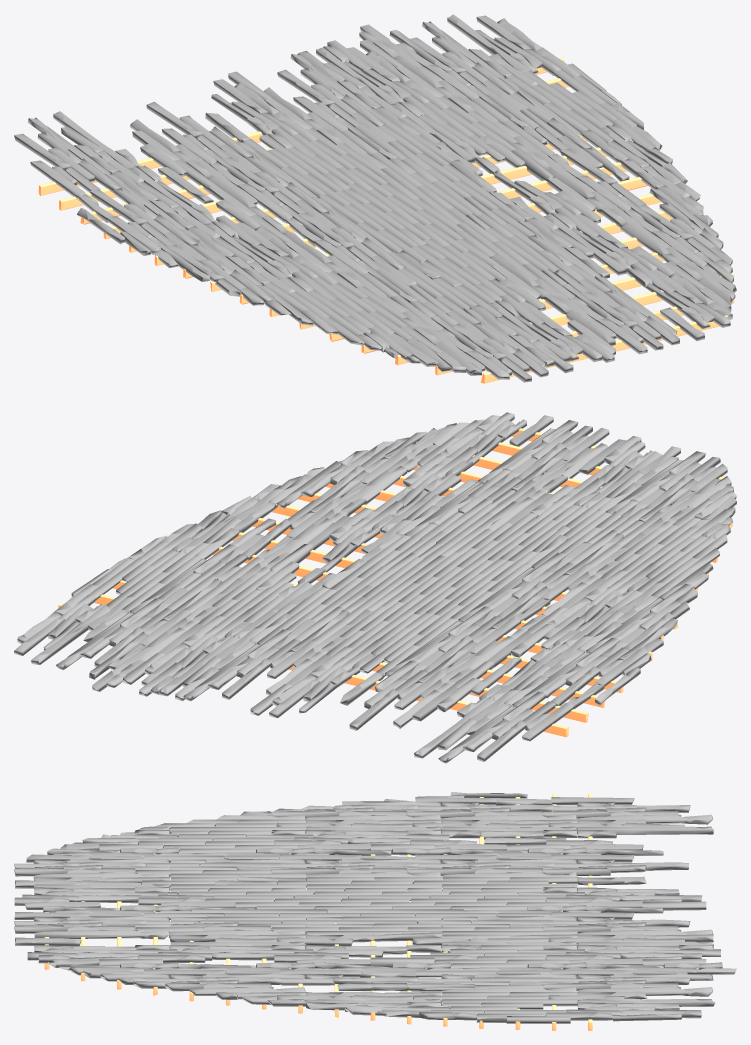
File: SM_Floor_CannonStern.fbx
3 renders of one model, top to bottom at view 1: azimuth 30°, elevation 25°; view 2: azimuth 150°, elevation 25°; view 3: azimuth 270°, elevation 25°, orthographic. The views are drawn at different scales.
Visible parts, largest first — view 1: SM_Floor_CannonStern_LOD0; view 2: SM_Floor_CannonStern_LOD0; view 3: SM_Floor_CannonStern_LOD0.
Part boxes in pixels (x1=…): SM_Floor_CannonStern_LOD0: x1=14, y1=14, x2=736, y2=383; SM_Floor_CannonStern_LOD0: x1=14, y1=412, x2=736, y2=763; SM_Floor_CannonStern_LOD0: x1=14, y1=792, x2=736, y2=1030.
Bounding box in the file's own units: 1196 × 1596 × 33.88.
